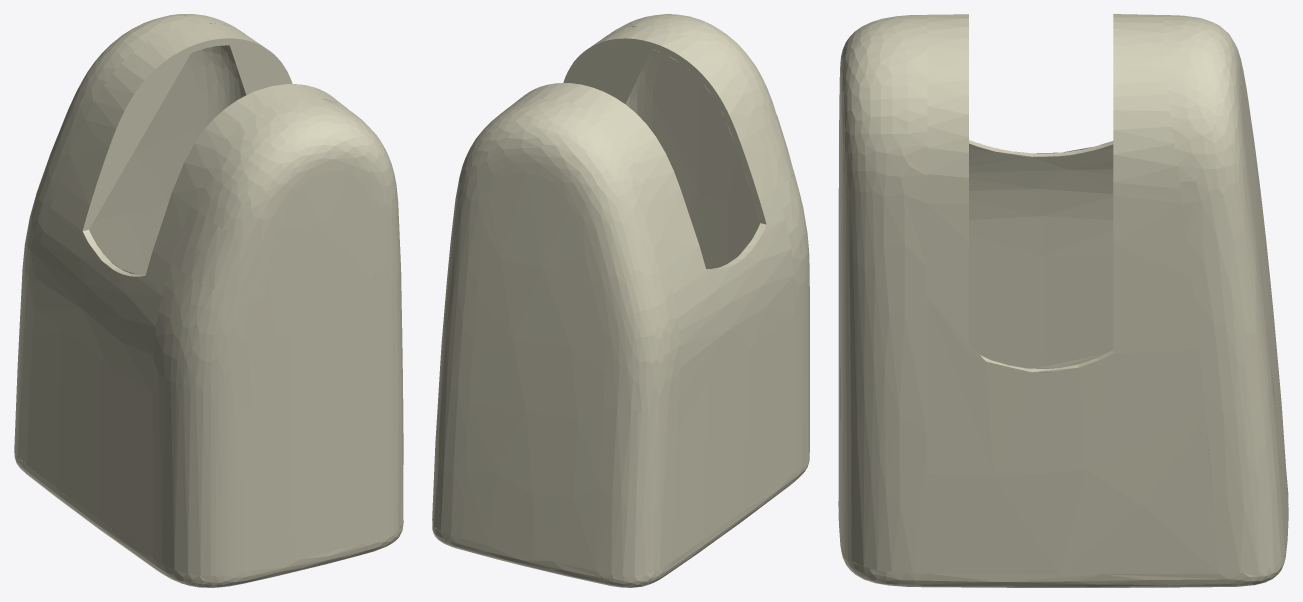
Rendered from arm_roll.dae.
The picture shows the model from 3 angles, left to right: view 1: azimuth 30°, elevation 25°; view 2: azimuth 150°, elevation 25°; view 3: azimuth 270°, elevation 25°; orthographic projection. The views are drawn at different scales.
Parts seen in each view (by area): view 1: Arm_Roll; view 2: Arm_Roll; view 3: Arm_Roll.
Part boxes in pixels (x1,y1,x2,y2): Arm_Roll: [14, 14, 403, 587]; Arm_Roll: [432, 14, 809, 587]; Arm_Roll: [838, 14, 1288, 587].
Size of the model in its own units: 0.0768 by 0.1092 by 0.1365.
1 material, 1 textured.
